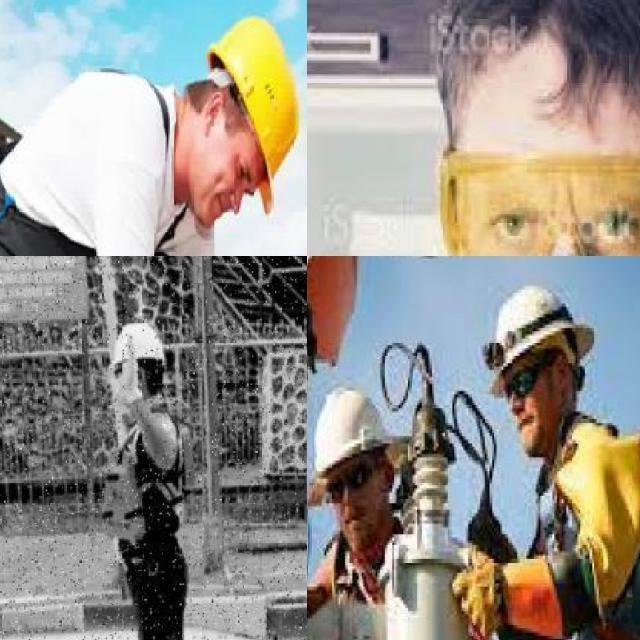apron: (451, 533, 525, 640), (120, 332, 144, 407)
